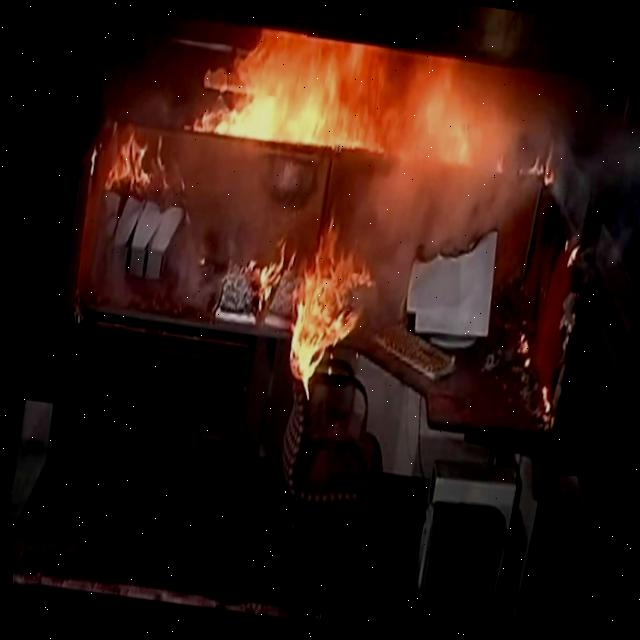fire: (193, 31, 552, 170), (287, 221, 371, 398)
smoke: (71, 6, 640, 260), (89, 0, 640, 88)
